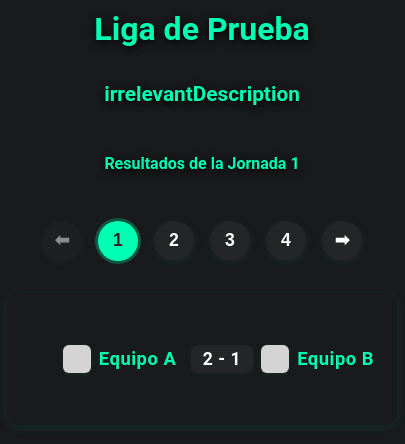
en la pagina general de mi liga › deberia permitirte navegar entre jornadas
What coordinates should you click on to do the following:
click the button named "Jornada 2"
I would click on:
 (174, 241)
Its box is [154,221,194,261].
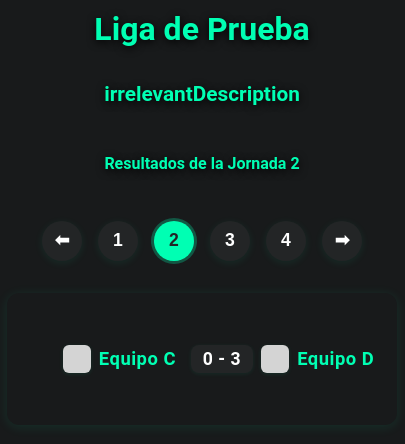
Check: the heading "Resultados de la Jornada 2" is shown, box [104,154,300,173]
Check: the text "Equipo C" is shown, box [63,345,183,373]
Check: the text "Equipo D" is shown, box [261,345,381,373]
